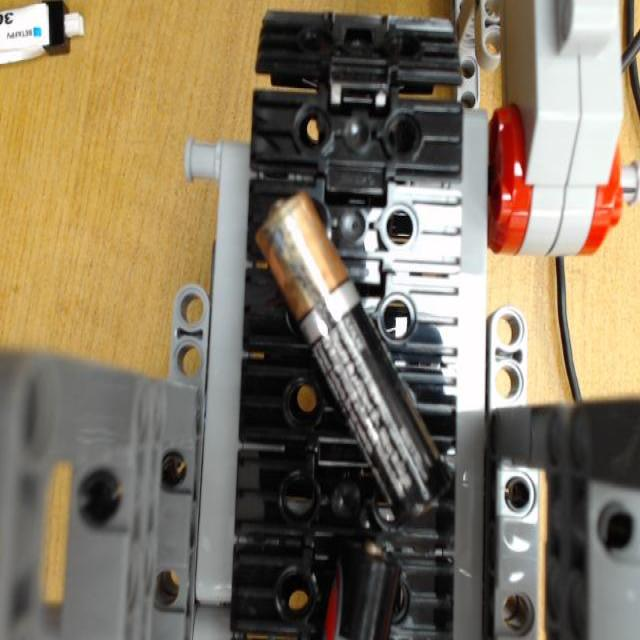AAA: (251, 190, 447, 521), (326, 548, 401, 640)
